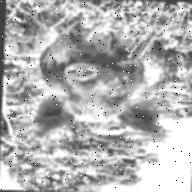boar: (36, 14, 157, 145)
